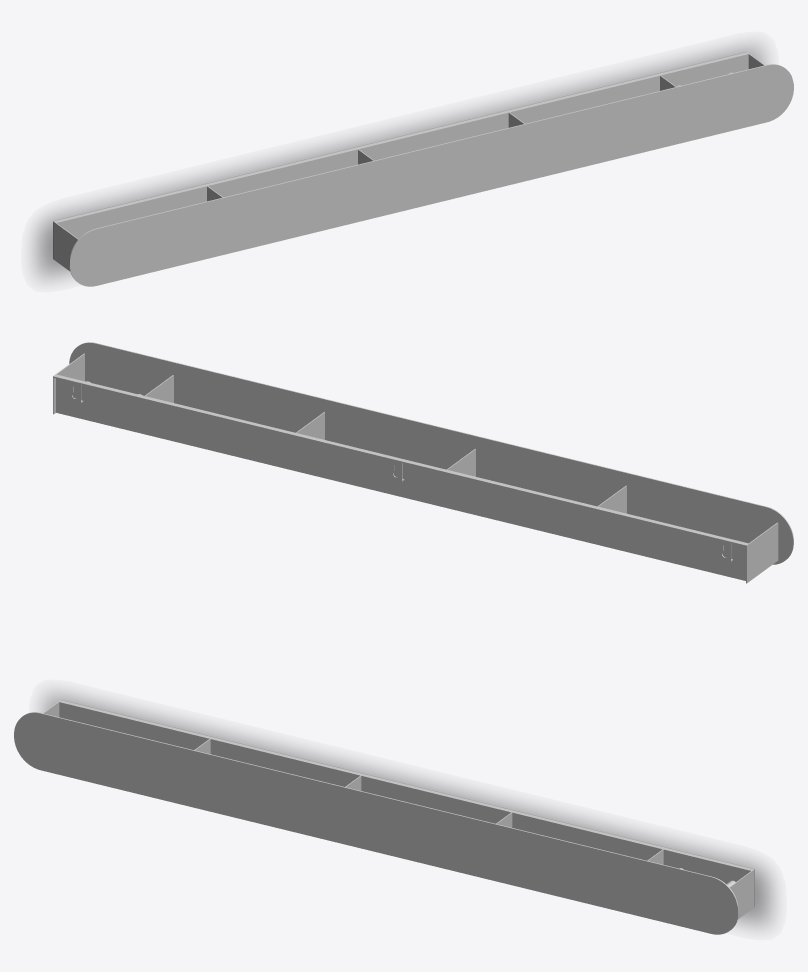
File: round-patron.c2ca37857d.ar.glb
3 renders of one model, top to bottom at view 1: azimuth 30°, elevation 25°; view 2: azimuth 150°, elevation 25°; view 3: azimuth 330°, elevation 25°, orthographic.
Parts seen in each view (by area): view 1: NAUO1, object 2; view 2: NAUO1; view 3: NAUO1, object 2.
Boxes of the visible parts, box(x1,y1,x2,y2) form: NAUO1: box(53, 52, 793, 286); object 2: box(33, 45, 766, 278); NAUO1: box(53, 342, 793, 583); NAUO1: box(14, 700, 754, 934); object 2: box(41, 693, 774, 926).
Bounding box in the file's own units: 1.28 × 0.17 × 0.092.
2 materials, 1 textured.
